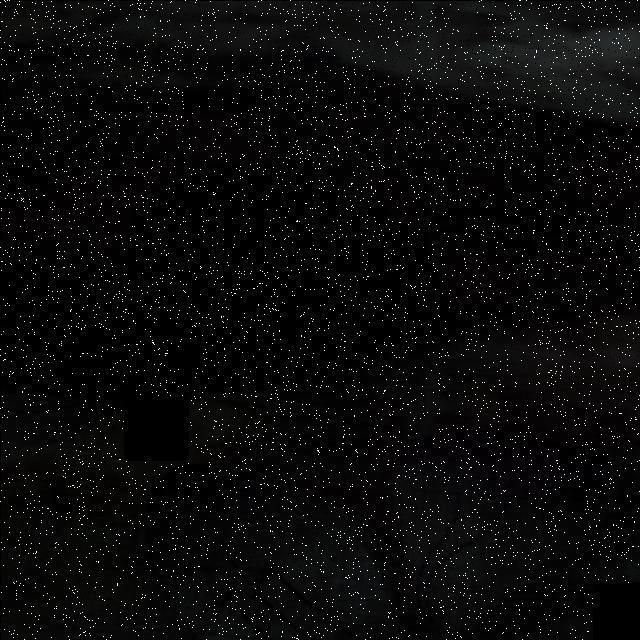egg: (117, 160, 445, 367)
